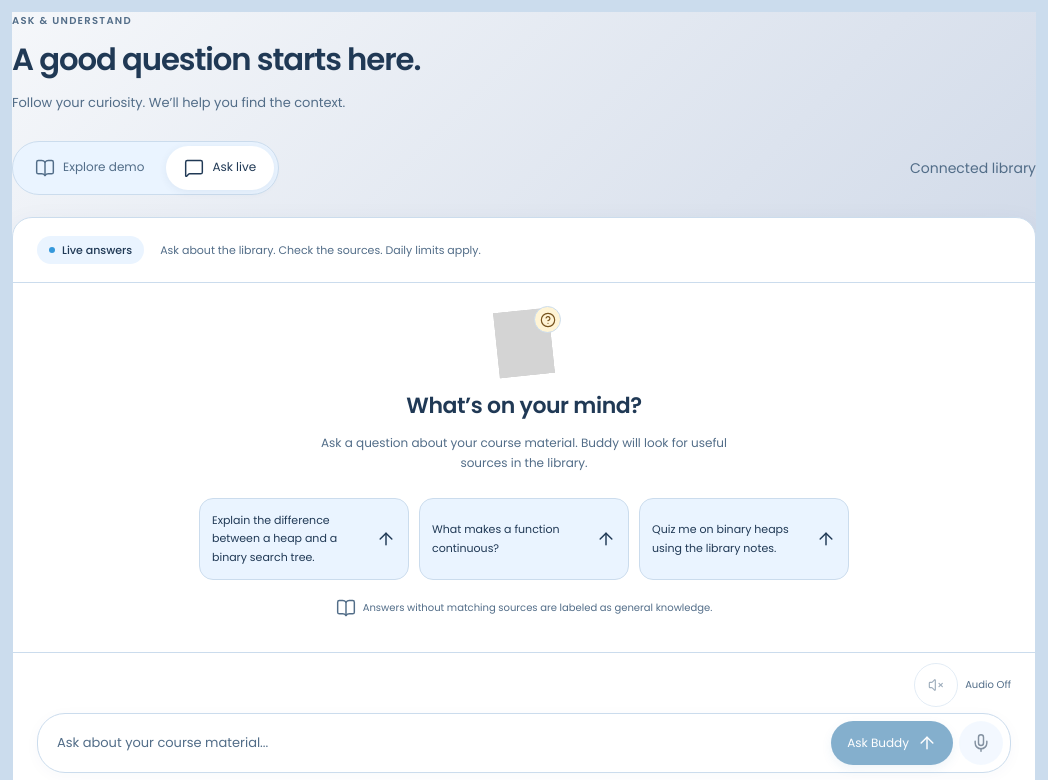
Test case: original passages and page citations remain readable when AI fails
Type "Can Cedar delete documents?" into the field named "Your question" at coordinates (434, 743), box [45,722,823,764]
Then press Enter
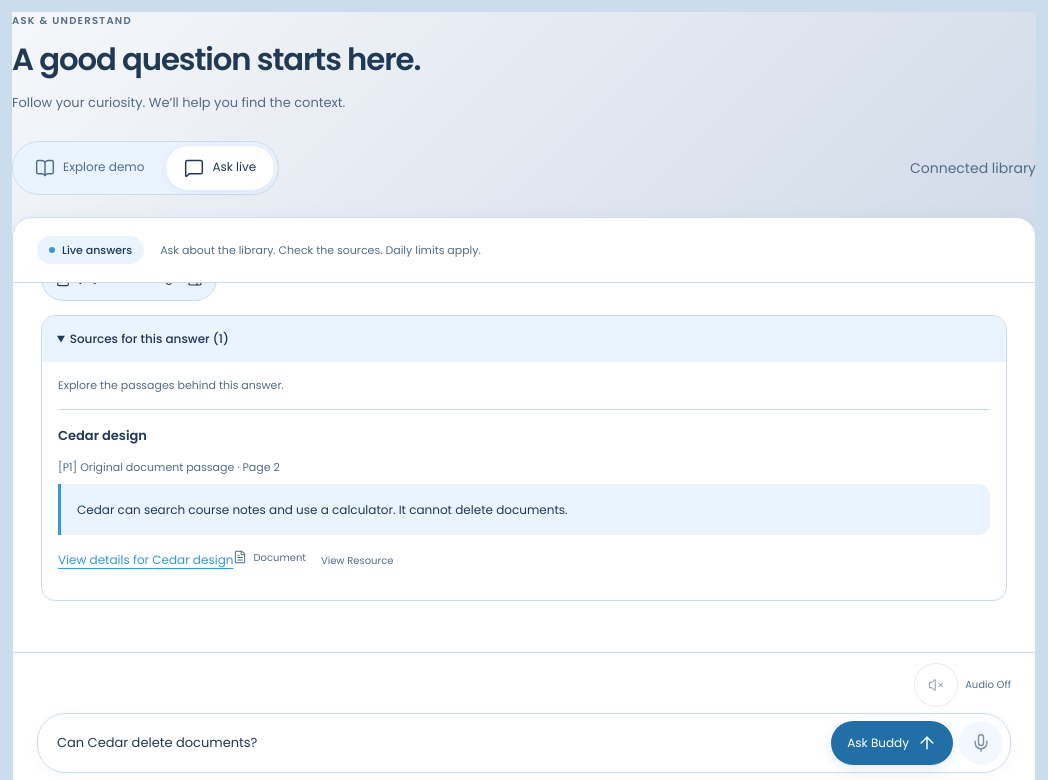
Now the text "Cedar can search course notes and use a calculator. It cannot delete documents." is shown, box [58,484,990,535]
Now the text "[P1] Original document passage · Page 2" is shown, box [58,459,280,475]
